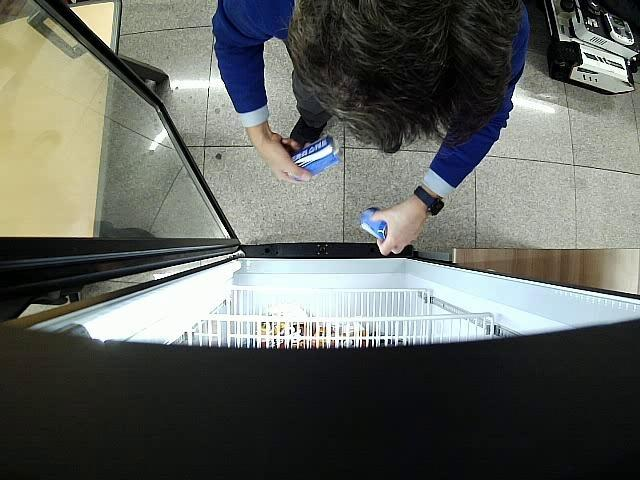13_pocariSweat: (288, 134, 342, 180), (360, 206, 387, 241)
